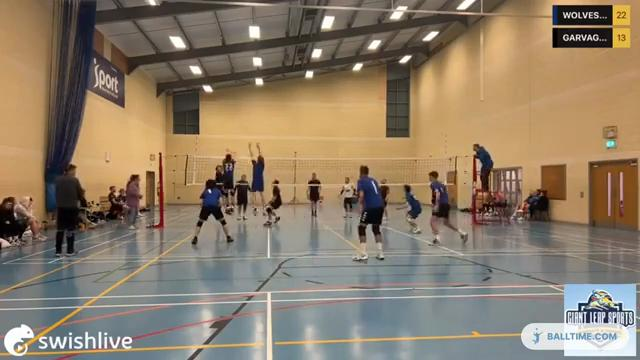Block: (244, 135, 272, 215), (213, 143, 240, 217)
Player: (353, 165, 383, 260), (429, 171, 467, 244), (192, 179, 233, 244), (398, 185, 421, 233), (264, 179, 281, 226), (235, 174, 249, 219), (340, 177, 354, 217), (307, 173, 320, 216), (380, 178, 388, 219), (214, 165, 223, 192)
